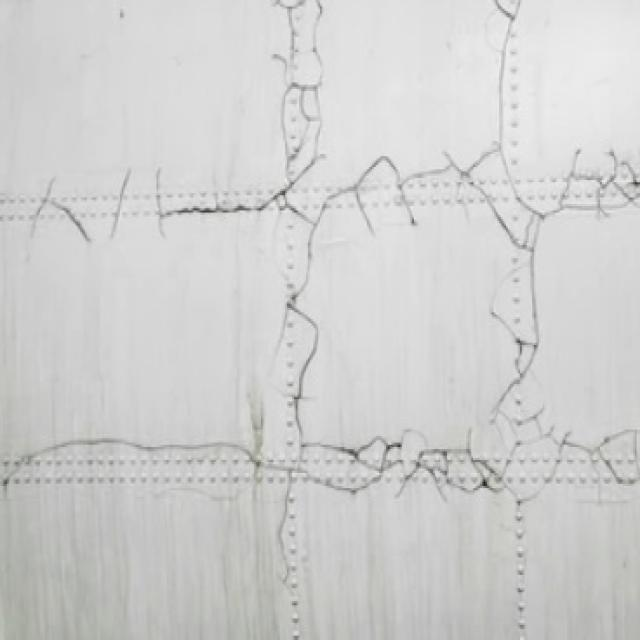crack: (7, 143, 640, 252), (3, 423, 640, 508), (266, 2, 329, 586), (487, 3, 545, 428)
